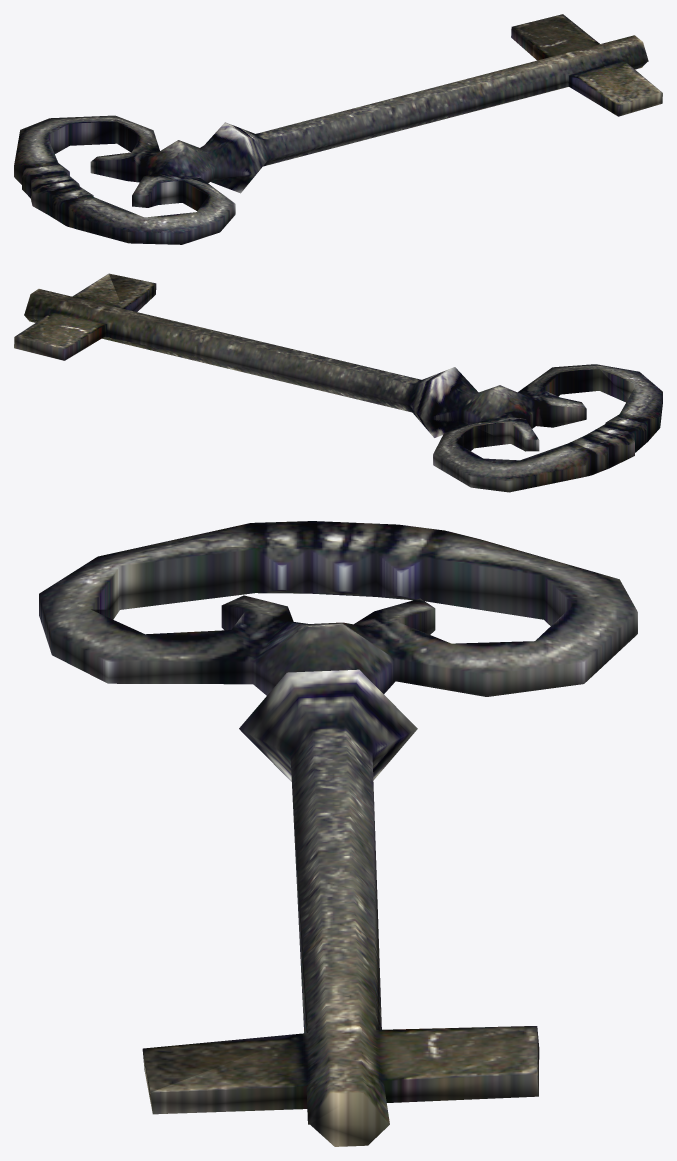
Rendered from Key1.fbx.
The picture shows the model from 3 angles, top to bottom: view 1: azimuth 30°, elevation 25°; view 2: azimuth 150°, elevation 25°; view 3: azimuth 270°, elevation 25°; orthographic projection. The views are drawn at different scales.
Parts seen in each view (by area): view 1: key2; view 2: key2; view 3: key2.
Part boxes in pixels (x1=…): key2: x1=14, y1=14, x2=662, y2=244; key2: x1=14, y1=273, x2=662, y2=492; key2: x1=39, y1=521, x2=637, y2=1146.
Bounding box in the file's own units: 4.17 × 0.3927 × 1.8.
1 material, 1 textured.
